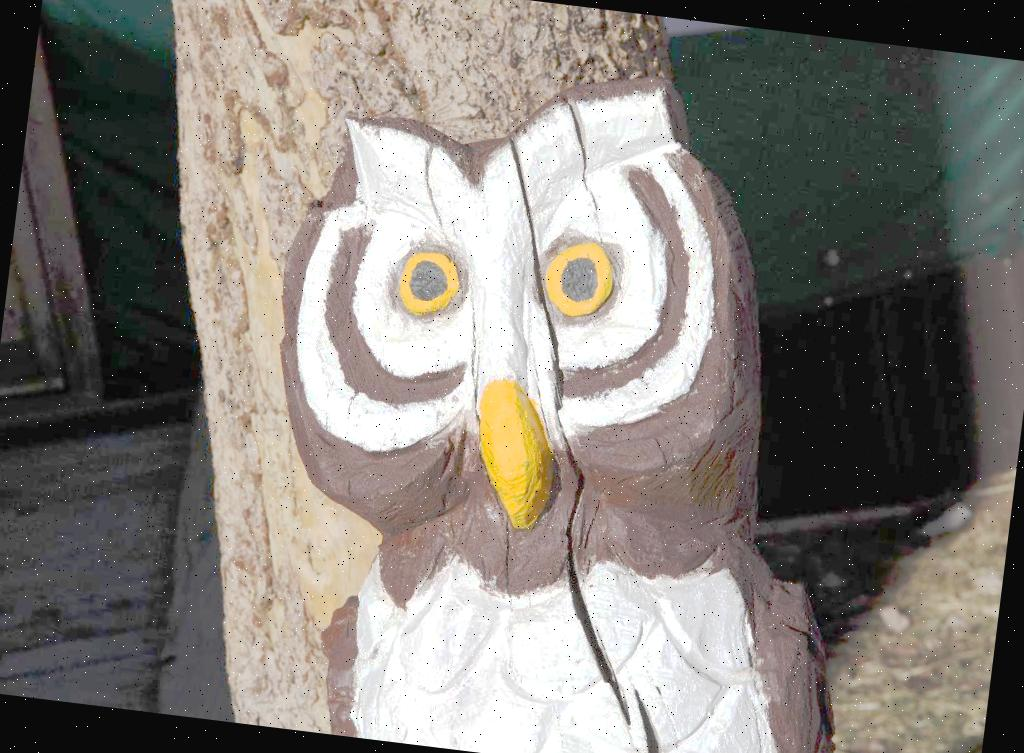Owl: (229, 28, 923, 753)
